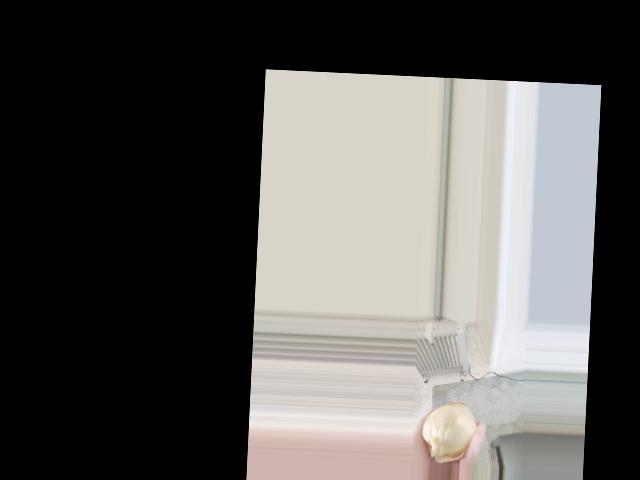onion: (417, 398, 477, 460)
